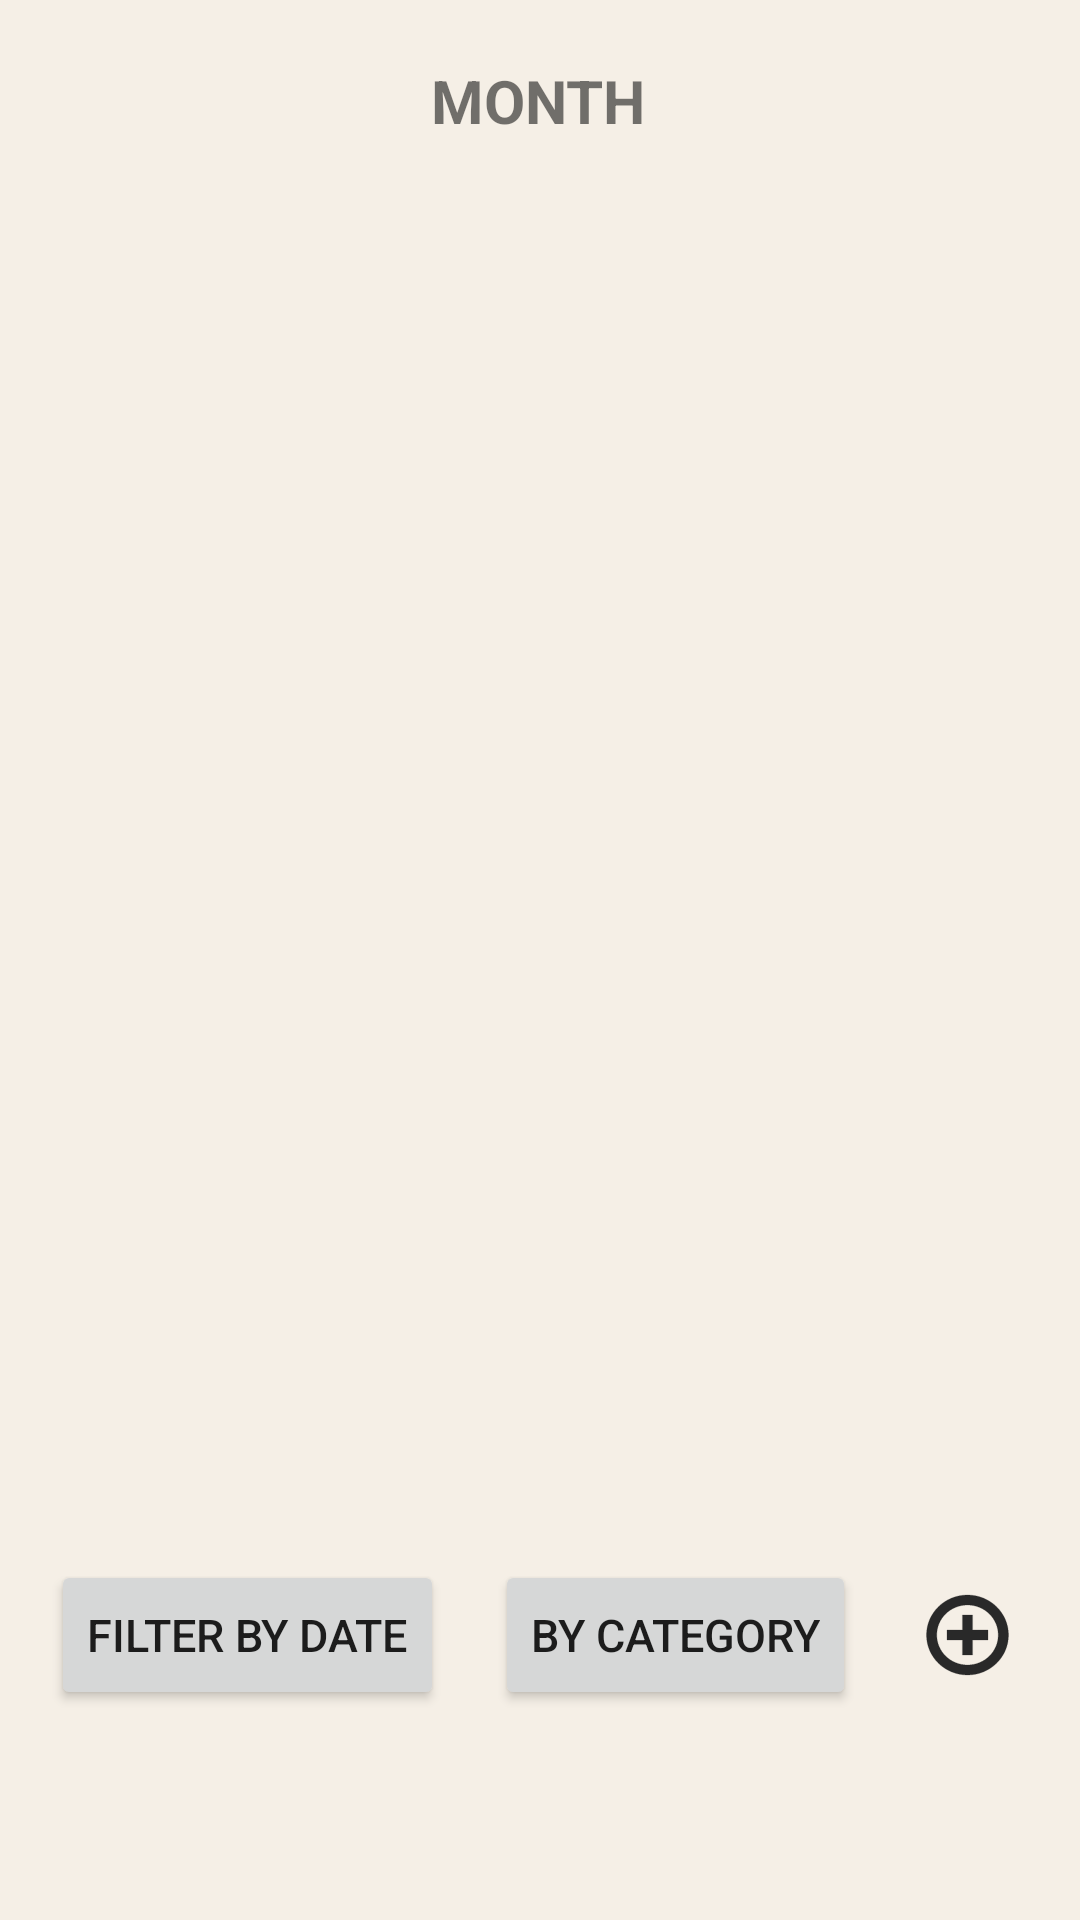

Screen size 1080 × 1920. Icon name, then its center in pixels as point (x, y):
New Record Button: point (967, 1635)
